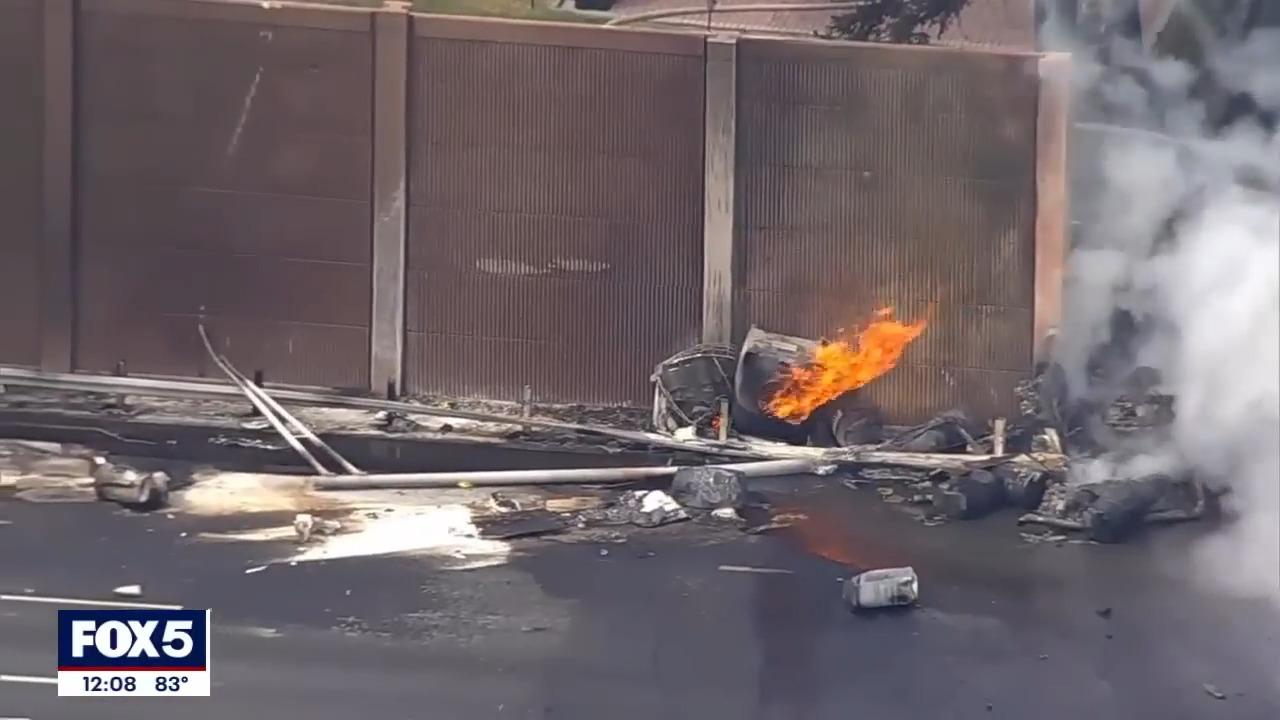fire: (765, 304, 935, 424)
